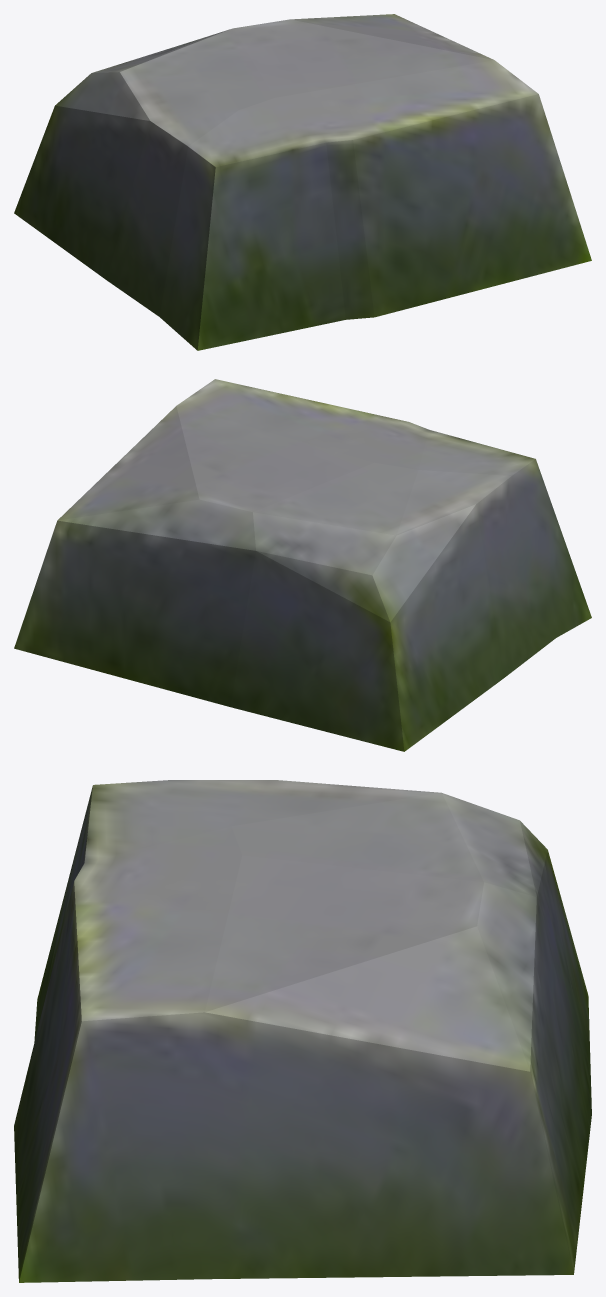
File: piedra-2.glb
The picture shows the model from 3 angles, top to bottom: view 1: azimuth 30°, elevation 25°; view 2: azimuth 150°, elevation 25°; view 3: azimuth 270°, elevation 25°; orthographic projection. The views are drawn at different scales.
Visible parts, largest first — view 1: Pebble_Square_3; view 2: Pebble_Square_3; view 3: Pebble_Square_3.
Boxes of the visible parts, left/top/right/bottom form: Pebble_Square_3: left=14, top=14, right=591, bottom=350; Pebble_Square_3: left=14, top=379, right=591, bottom=751; Pebble_Square_3: left=14, top=780, right=591, bottom=1282.
Size of the model in its own units: 0.3733 by 0.1589 by 0.3187.
Materials: 1 (1 with a texture image).
